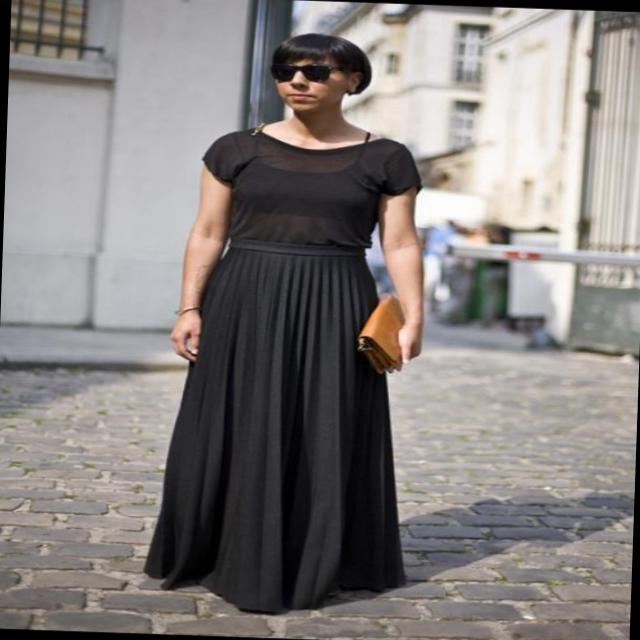Tshirt: (196, 126, 424, 252)
skirt: (138, 236, 418, 618)
